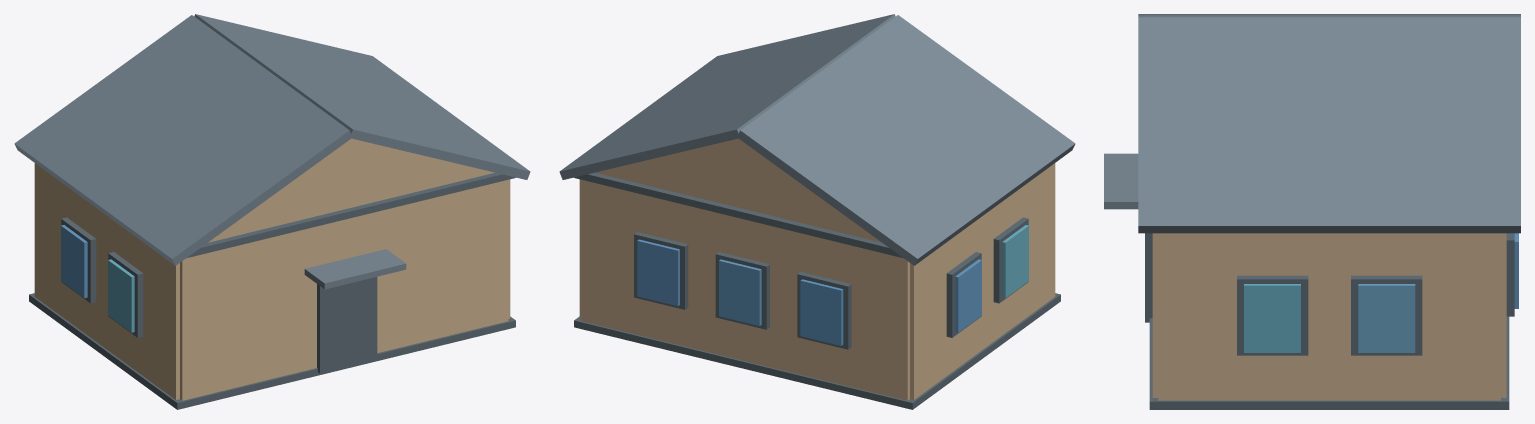
Rendered from cottage.glb.
3 renders of one model, left to right at view 1: azimuth 30°, elevation 25°; view 2: azimuth 150°, elevation 25°; view 3: azimuth 270°, elevation 25°, orthographic. The views are drawn at different scales.
Parts seen in each view (by area): view 1: FormLab; view 2: FormLab; view 3: FormLab.
Boxes of the visible parts, x1,y1,x2,y2 form: FormLab: [14, 14, 530, 409]; FormLab: [559, 14, 1075, 409]; FormLab: [1104, 14, 1520, 409].
Size of the model in its own units: 8.78 by 5.67 by 7.3.
